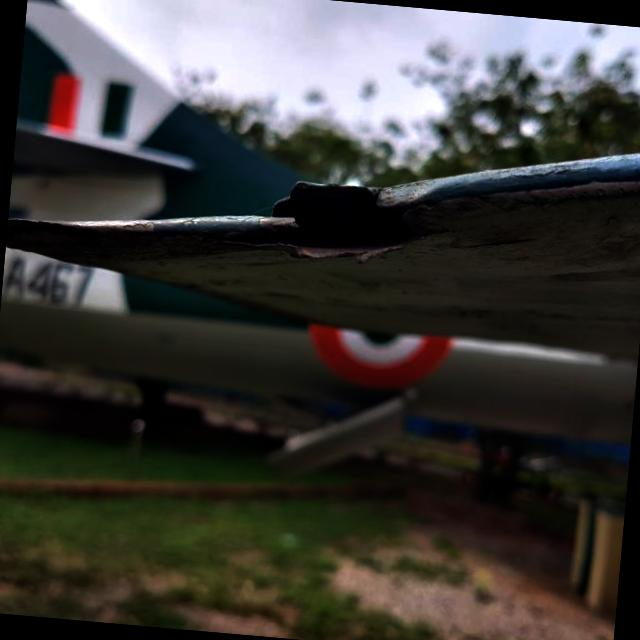crack: (188, 154, 468, 290)
